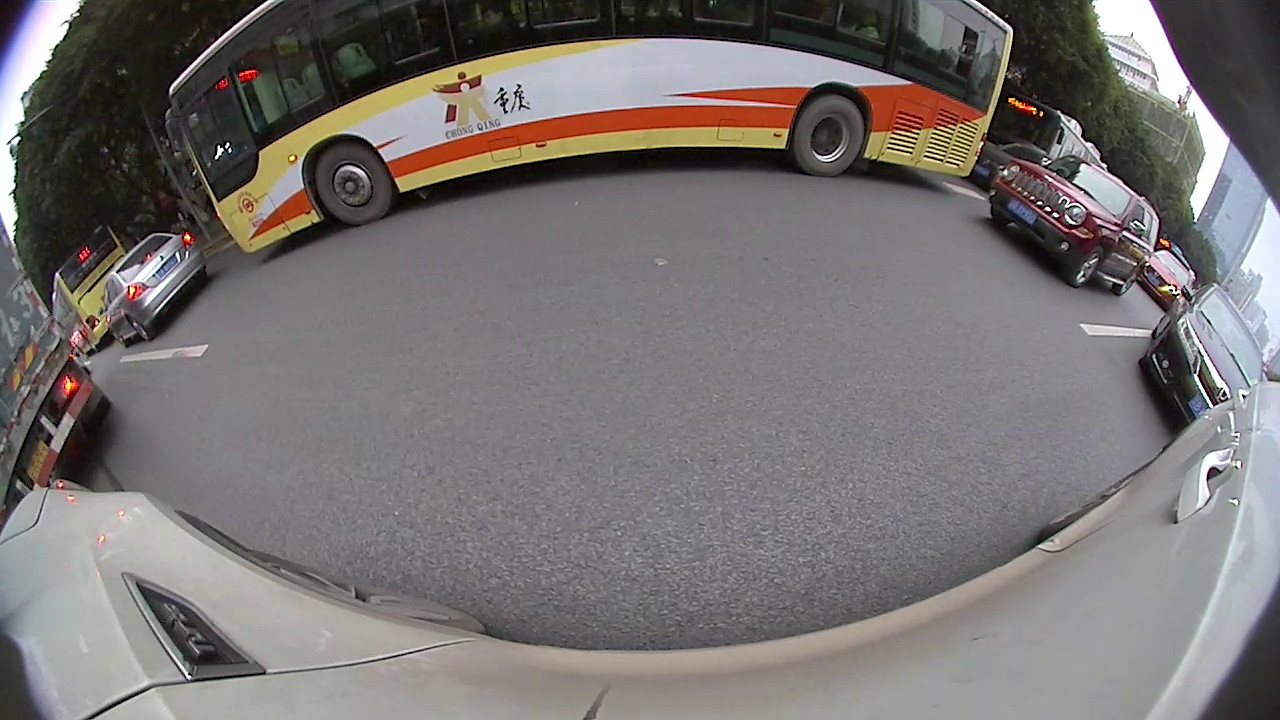bus: (170, 1, 1016, 258), (970, 90, 1112, 191), (49, 221, 133, 357)
car: (990, 153, 1163, 298), (1138, 281, 1266, 431), (101, 231, 211, 348), (1137, 248, 1192, 313)
front: (309, 142, 395, 226), (1066, 245, 1105, 291)
rear: (790, 93, 866, 179), (1111, 263, 1143, 297), (129, 314, 154, 342)
truck: (1, 217, 112, 529)
